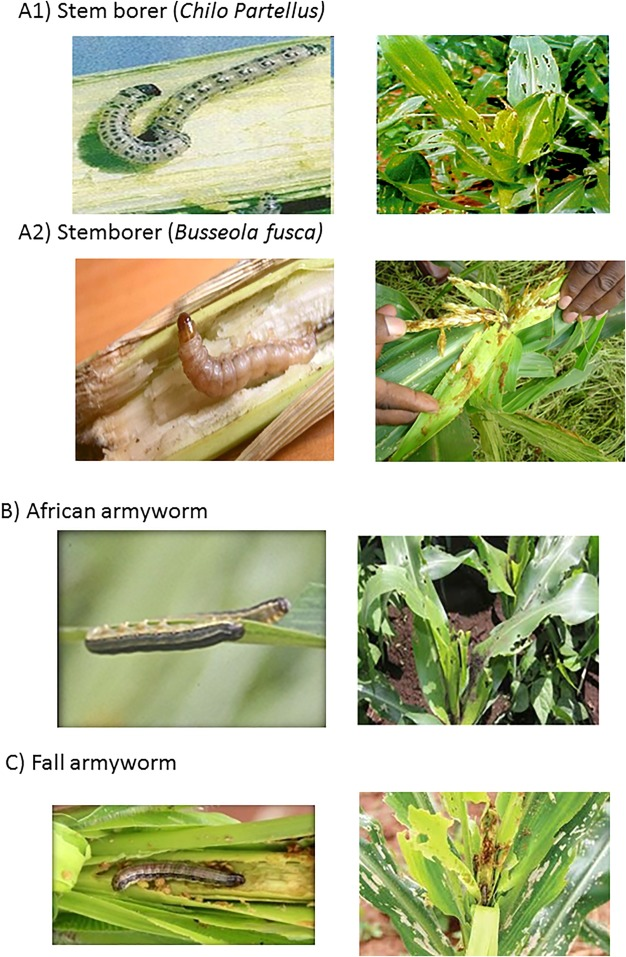Armyworm: (148, 46, 326, 137), (158, 302, 316, 392), (79, 603, 321, 659), (111, 849, 266, 918), (94, 68, 173, 187)
